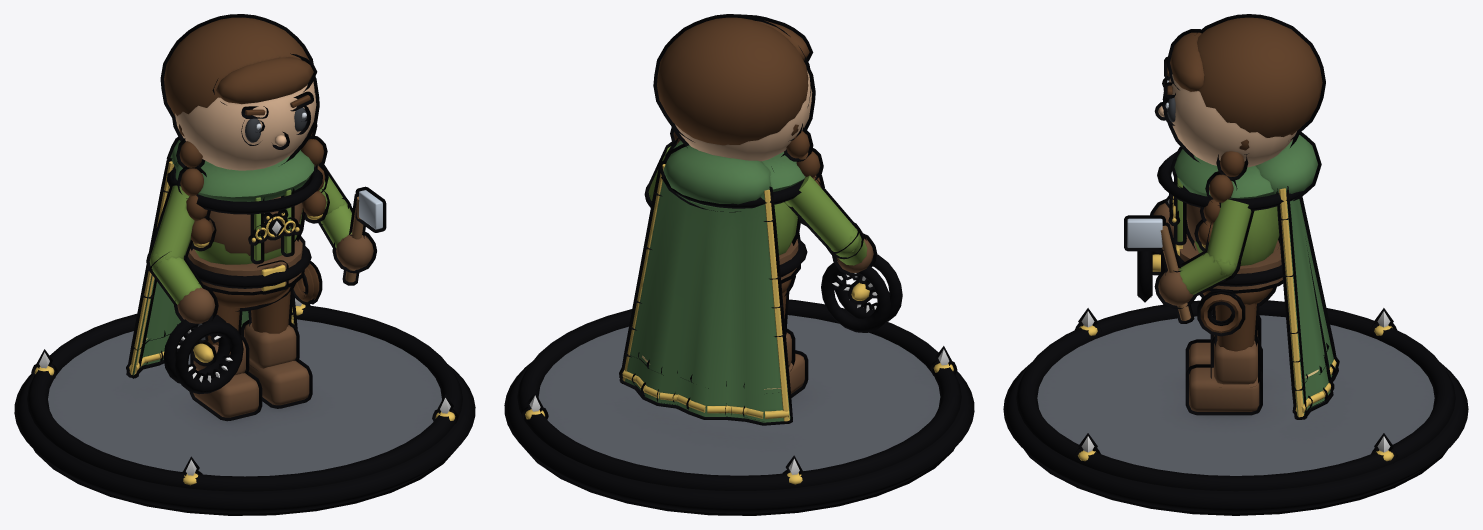
File: trapper_s4.fbx
3 views of the same model, side by side, from view 1: azimuth 30°, elevation 25°; view 2: azimuth 150°, elevation 25°; view 3: azimuth 270°, elevation 25° (orthographic).
Parts seen in each view (by area): view 1: trapper_s4; view 2: trapper_s4; view 3: trapper_s4.
Part boxes in pixels (box(x1,y1,x2,y2)): trapper_s4: box(14, 14, 475, 515); trapper_s4: box(504, 14, 974, 515); trapper_s4: box(1003, 14, 1468, 515).
Bounding box in the file's own units: 1.58 × 1.5 × 1.58.
Materials: 2 (1 with a texture image).
